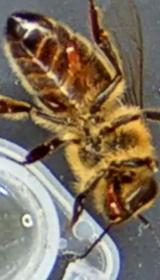varroa_mite: (59, 36, 81, 67)
